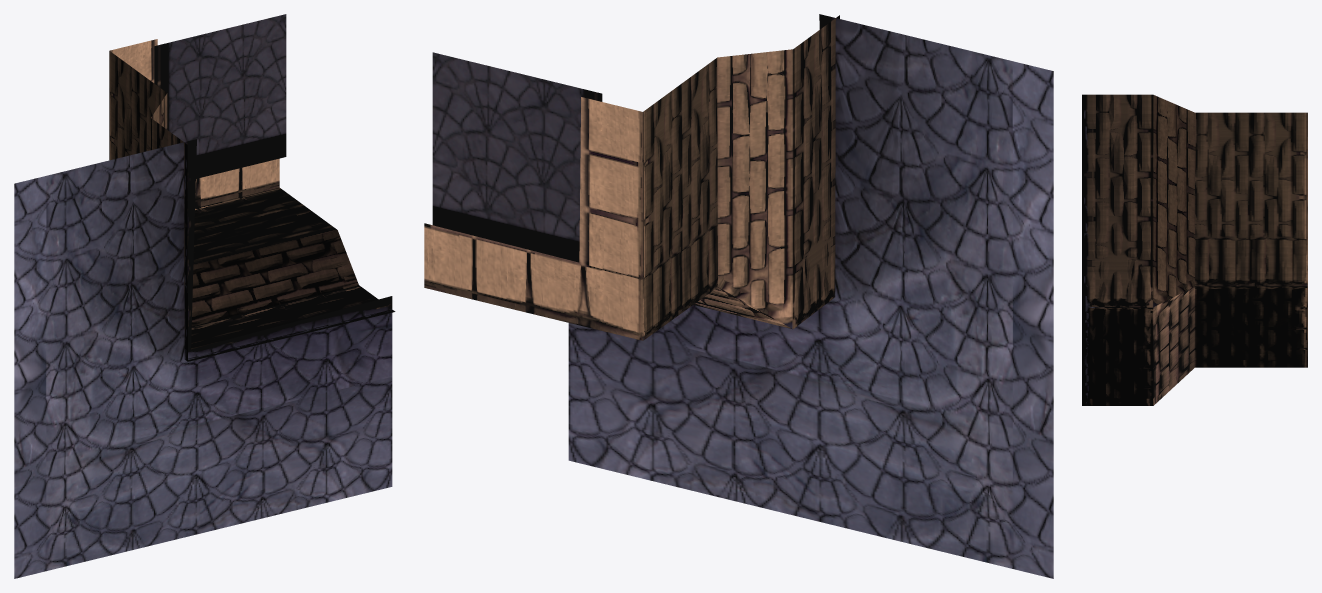
File: ex_OutCorner2.obj
3 renders of one model, left to right at view 1: azimuth 30°, elevation 25°; view 2: azimuth 150°, elevation 25°; view 3: azimuth 270°, elevation 25°, orthographic. The views are drawn at different scales.
Parts seen in each view (by area): view 1: ex_OutCorner2_Plane.024, object 2; view 2: ex_OutCorner2_Plane.024, object 2; view 3: ex_OutCorner2_Plane.024.
Part boxes in pixels (x1,y1,x2,y2): ex_OutCorner2_Plane.024: [14, 39, 395, 578]; object 2: [154, 14, 286, 178]; ex_OutCorner2_Plane.024: [424, 14, 1053, 578]; object 2: [432, 52, 602, 262]; ex_OutCorner2_Plane.024: [1082, 94, 1307, 405].
Size of the model in its own units: 256 by 256 by 136.
